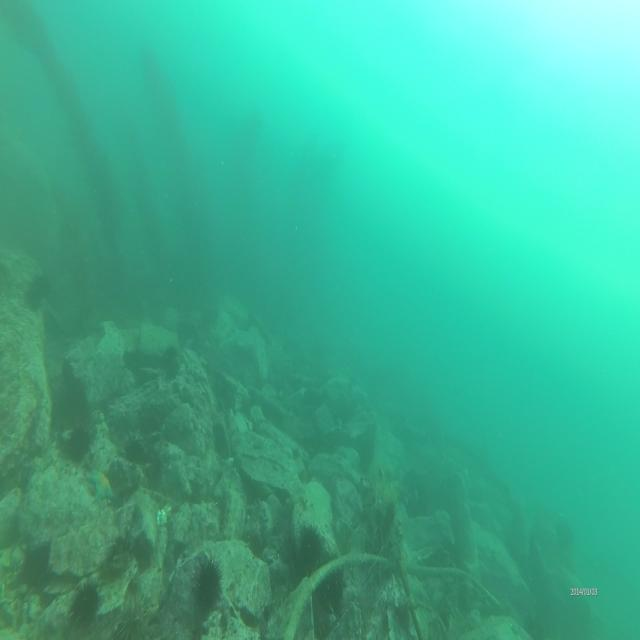echinus: (192, 552, 225, 620), (296, 521, 326, 584), (115, 589, 152, 640), (73, 577, 100, 622), (64, 422, 90, 465), (163, 336, 182, 387), (125, 434, 146, 466)
starfish: (85, 465, 116, 504)
